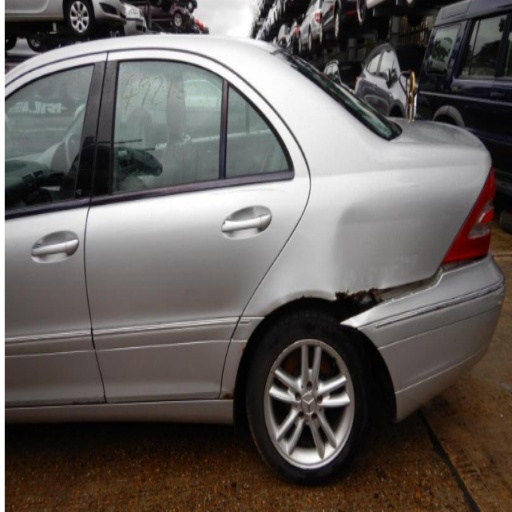dent: (334, 188, 428, 289)
rust: (333, 285, 384, 300), (222, 379, 235, 400), (240, 347, 244, 355), (301, 293, 307, 297)
